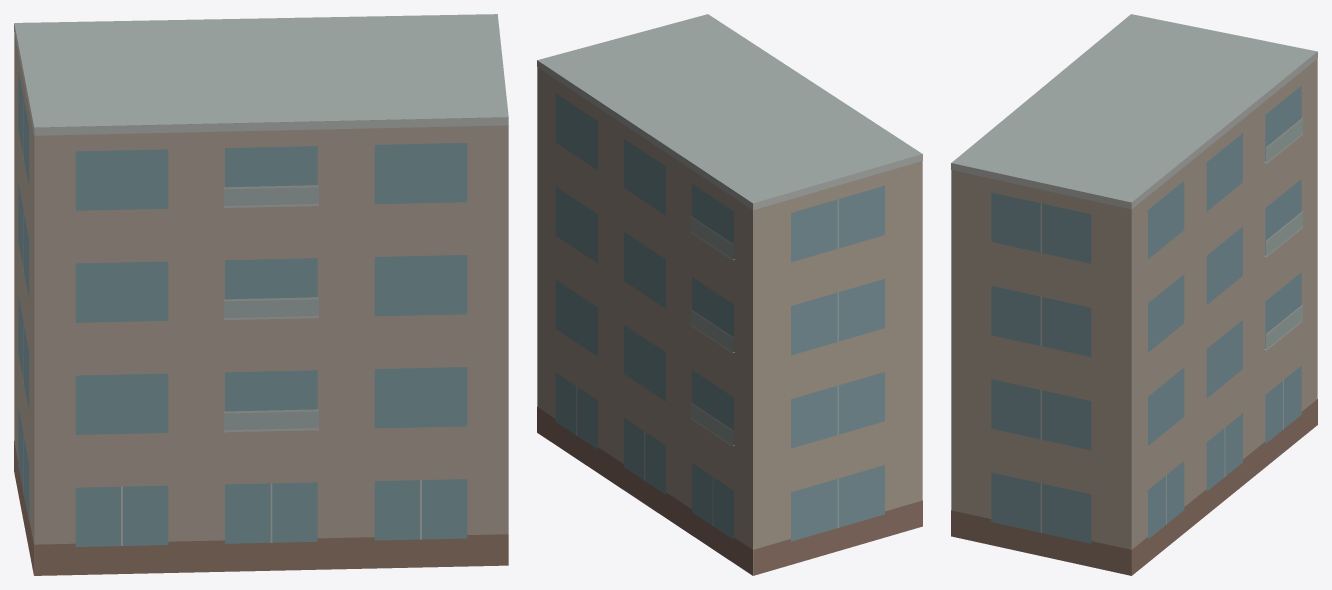
File: survey-upis-32908050.glb
3 views of the same model, side by side, from view 1: azimuth 30°, elevation 25°; view 2: azimuth 150°, elevation 25°; view 3: azimuth 270°, elevation 25° (orthographic). The views are drawn at different scales.
Parts seen in each view (by area): view 1: survey-upis-32908050.tmp; view 2: survey-upis-32908050.tmp; view 3: survey-upis-32908050.tmp.
Part boxes in pixels (x1=…): survey-upis-32908050.tmp: x1=14, y1=14, x2=508, y2=575; survey-upis-32908050.tmp: x1=537, y1=14, x2=922, y2=575; survey-upis-32908050.tmp: x1=951, y1=14, x2=1317, y2=575.
Size of the model in its own units: 14.3 by 13.2 by 11.76.
